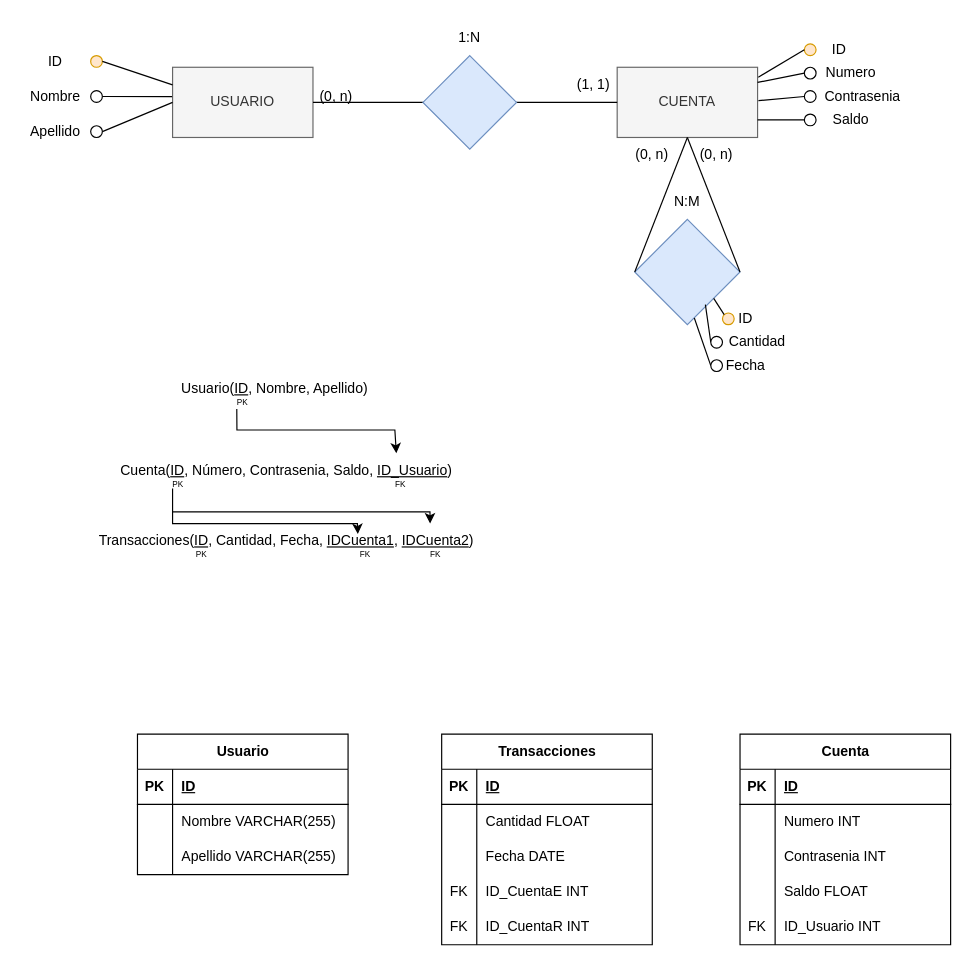
Some shapes in this 971 by 965 pixel diagram are drawn without their labels. Here are the shapes that lost their labels. From the top down, the centre of each, then its label:
At point (469, 101): "tiene".
At point (687, 271): "Transferencias".
